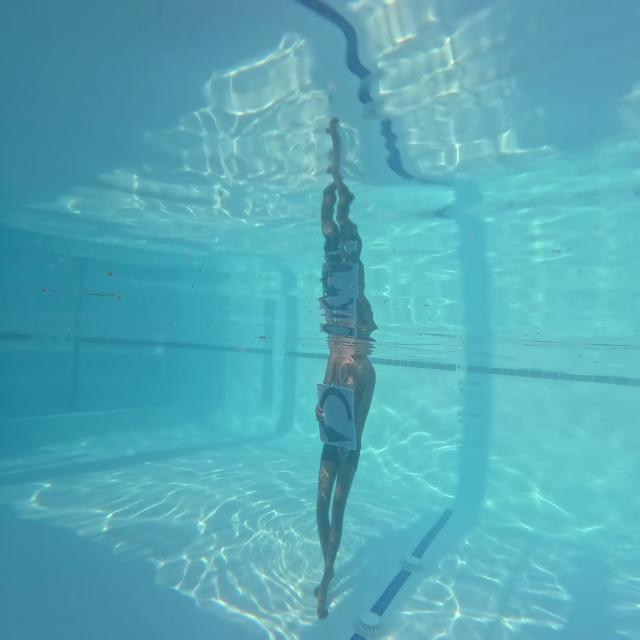blue_side: (308, 375, 364, 458)
